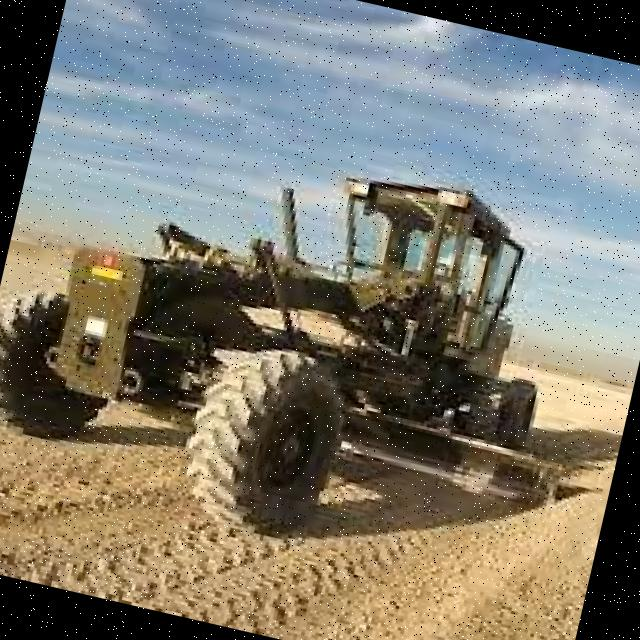Grader: (0, 80, 640, 622)
